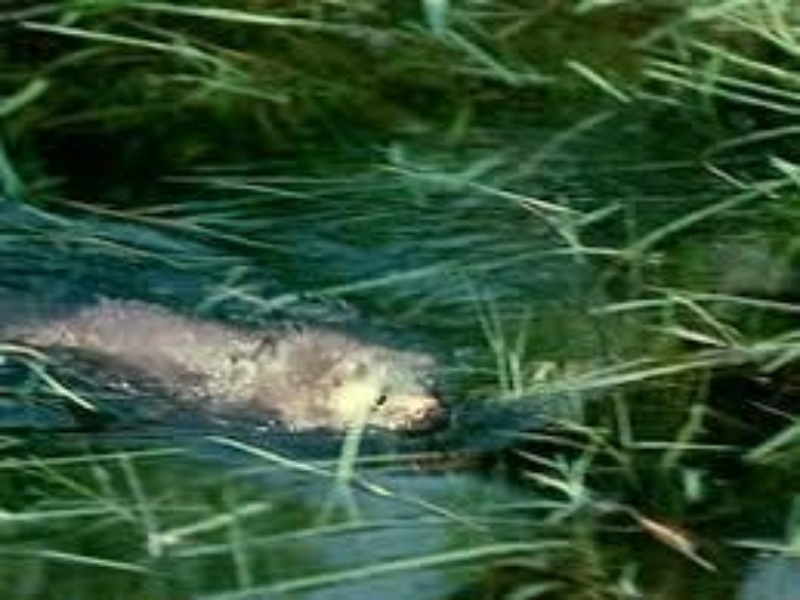minkish: (25, 294, 451, 434)
